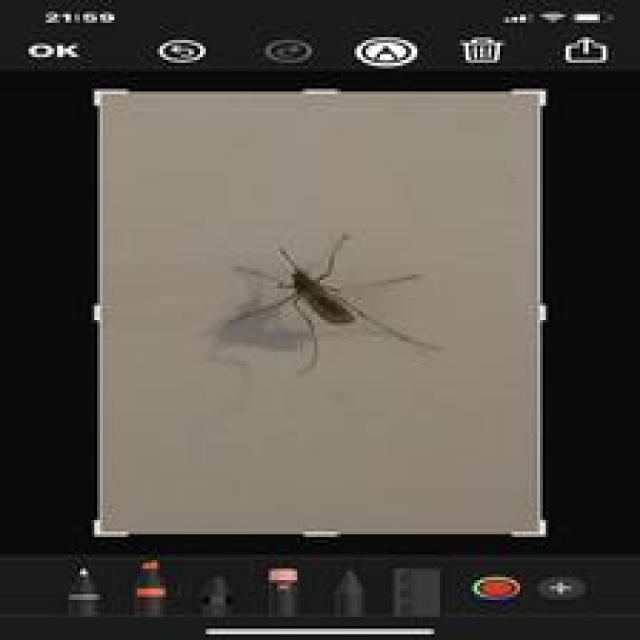Culex: (223, 232, 446, 374)
